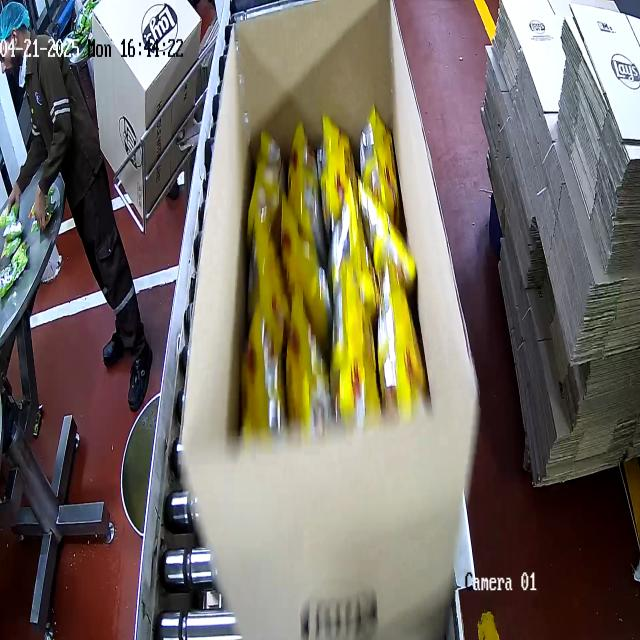SALTED: (243, 124, 414, 427)
